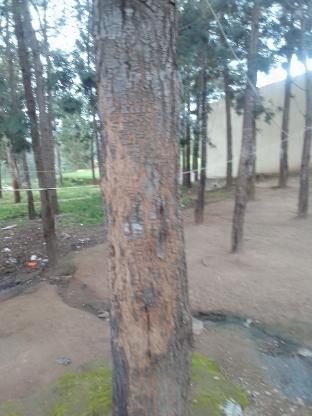tree: (84, 0, 210, 410)
